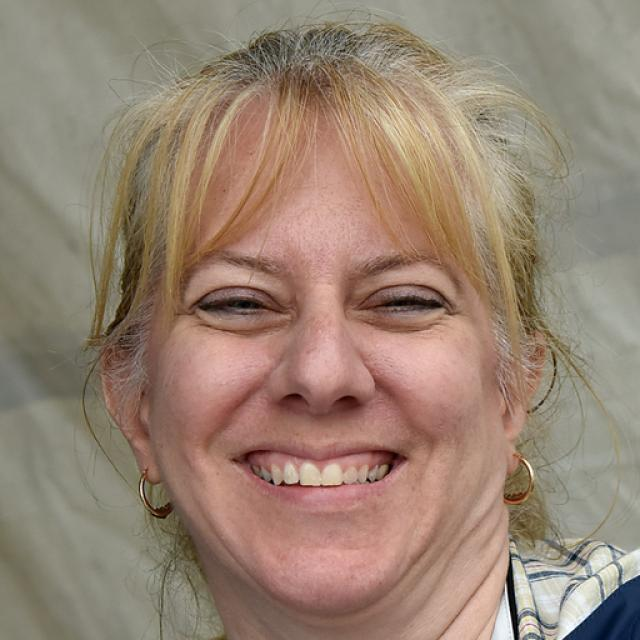happy: (150, 83, 511, 618)
